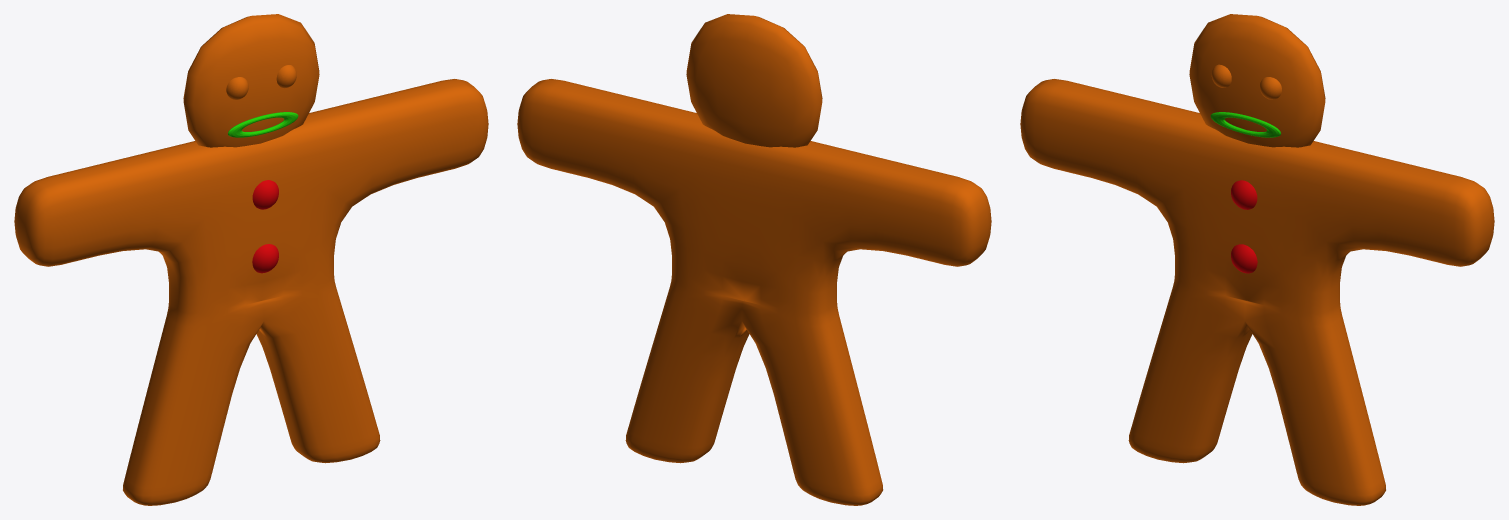
The model's file is gingerbread_man.fbx.
3 views of the same model, side by side, from view 1: azimuth 30°, elevation 25°; view 2: azimuth 150°, elevation 25°; view 3: azimuth 330°, elevation 25° (orthographic).
Visible parts, largest first — view 1: Gus, Sphere, Torus; view 2: Gus; view 3: Gus, Sphere, Torus.
Boxes of the visible parts, bbox=[...] form: Gus: bbox=[14, 14, 488, 505]; Sphere: bbox=[252, 180, 278, 273]; Torus: bbox=[228, 112, 298, 137]; Gus: bbox=[517, 14, 991, 505]; Gus: bbox=[1020, 14, 1494, 505]; Sphere: bbox=[1231, 180, 1257, 273]; Torus: bbox=[1210, 112, 1280, 137].
Size of the model in its own units: 597 by 570 by 71.92.
